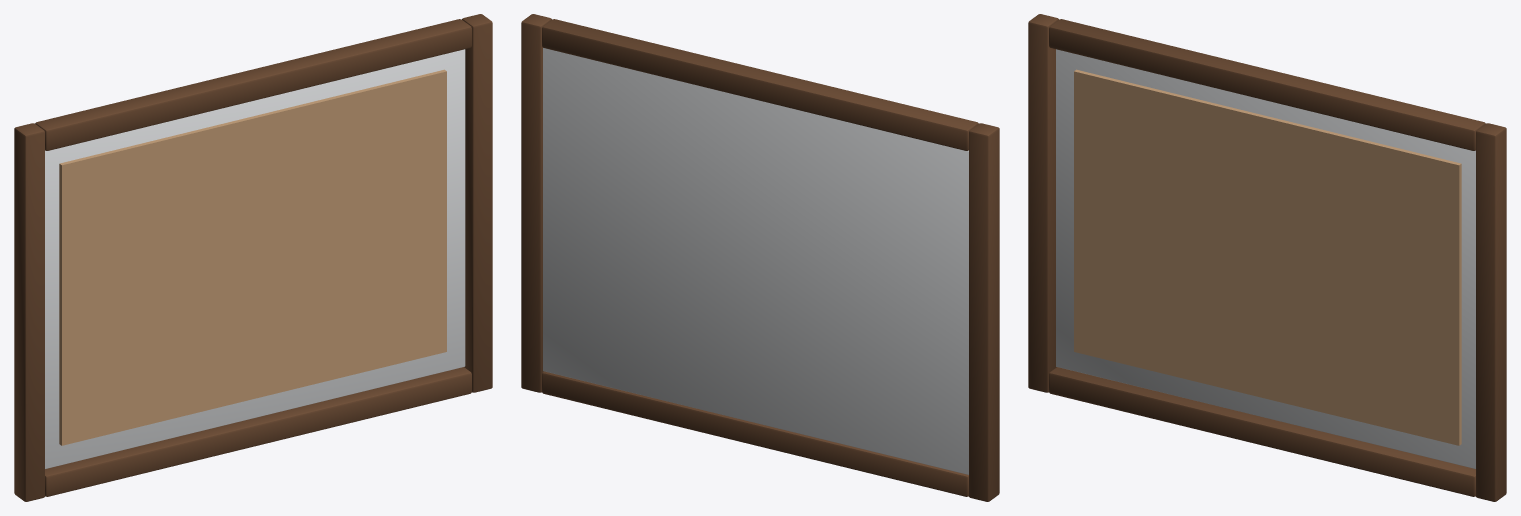
The model's file is art.glb.
3 renders of one model, left to right at view 1: azimuth 30°, elevation 25°; view 2: azimuth 150°, elevation 25°; view 3: azimuth 330°, elevation 25°, orthographic.
Parts seen in each view (by area): view 1: canvas, box.004, box.003, box.002, box, box.001; view 2: box.004, box.003, box, box.002, box.001; view 3: canvas, box.004, box.003, box.002, box.001, box.
Boxes of the visible parts, x1,y1,x2,y2 form: canvas: (59, 69, 446, 445); box.004: (45, 49, 465, 468); box.003: (35, 19, 471, 150); box.002: (45, 367, 471, 496); box: (14, 123, 44, 501); box.001: (462, 14, 492, 392); box.004: (543, 48, 968, 474); box.003: (542, 19, 978, 150); box: (969, 123, 999, 501); box.002: (542, 371, 968, 496); box.001: (521, 14, 551, 392); canvas: (1074, 69, 1461, 445); box.004: (1056, 49, 1475, 468); box.003: (1049, 19, 1485, 150); box.002: (1049, 367, 1475, 496); box.001: (1476, 123, 1506, 501); box: (1028, 14, 1058, 392).
Size of the model in its own units: 90 by 67.5 by 4.
